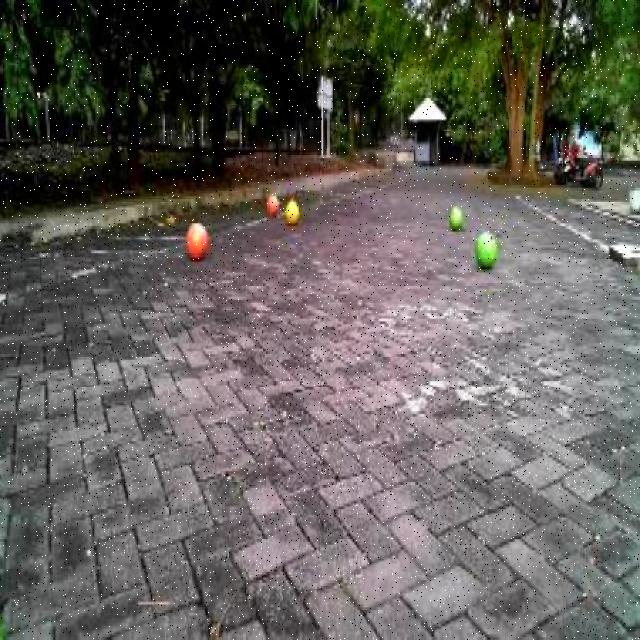buoy: (180, 213, 214, 263), (470, 224, 500, 270), (286, 191, 300, 226), (447, 201, 463, 231)
